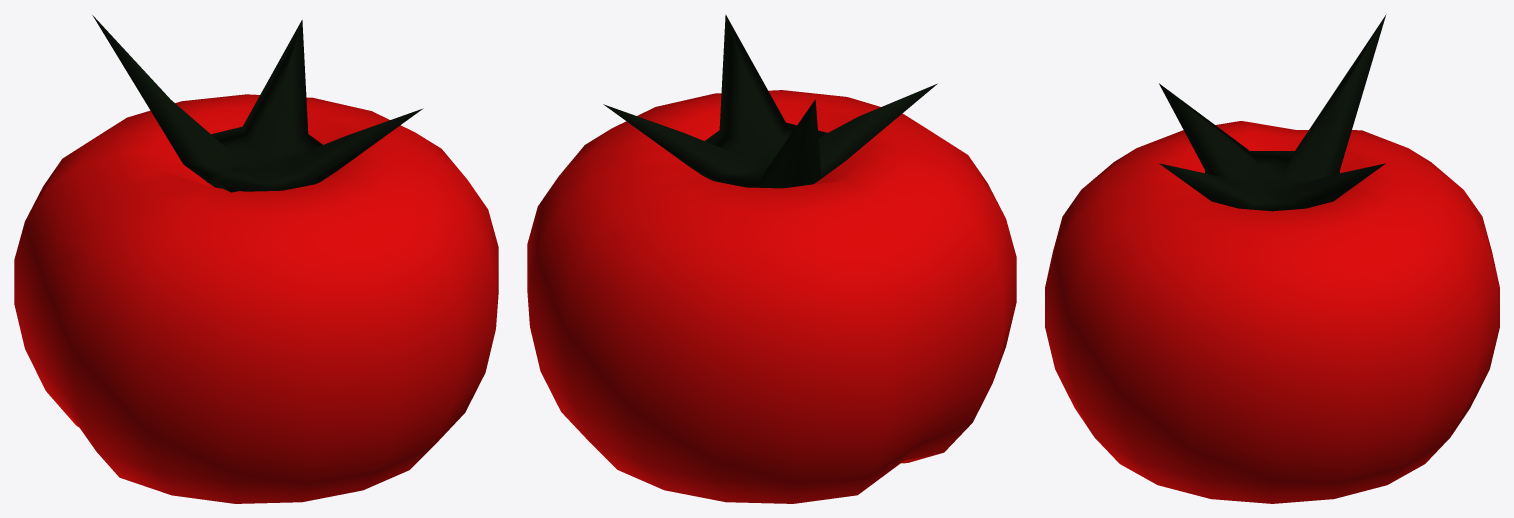
The model's file is Fruit_Tomato.fbx.
3 views of the same model, side by side, from view 1: azimuth 30°, elevation 25°; view 2: azimuth 150°, elevation 25°; view 3: azimuth 270°, elevation 25° (orthographic). The views are drawn at different scales.
Visible parts, largest first — view 1: pasted__pCube9; view 2: pasted__pCube9; view 3: pasted__pCube9.
Part boxes in pixels (box(x1,y1,x2,y2)): pasted__pCube9: box(14, 15, 498, 503); pasted__pCube9: box(527, 14, 1016, 503); pasted__pCube9: box(1045, 14, 1499, 503).
Size of the model in its own units: 0.366 by 0.3429 by 0.3676.
